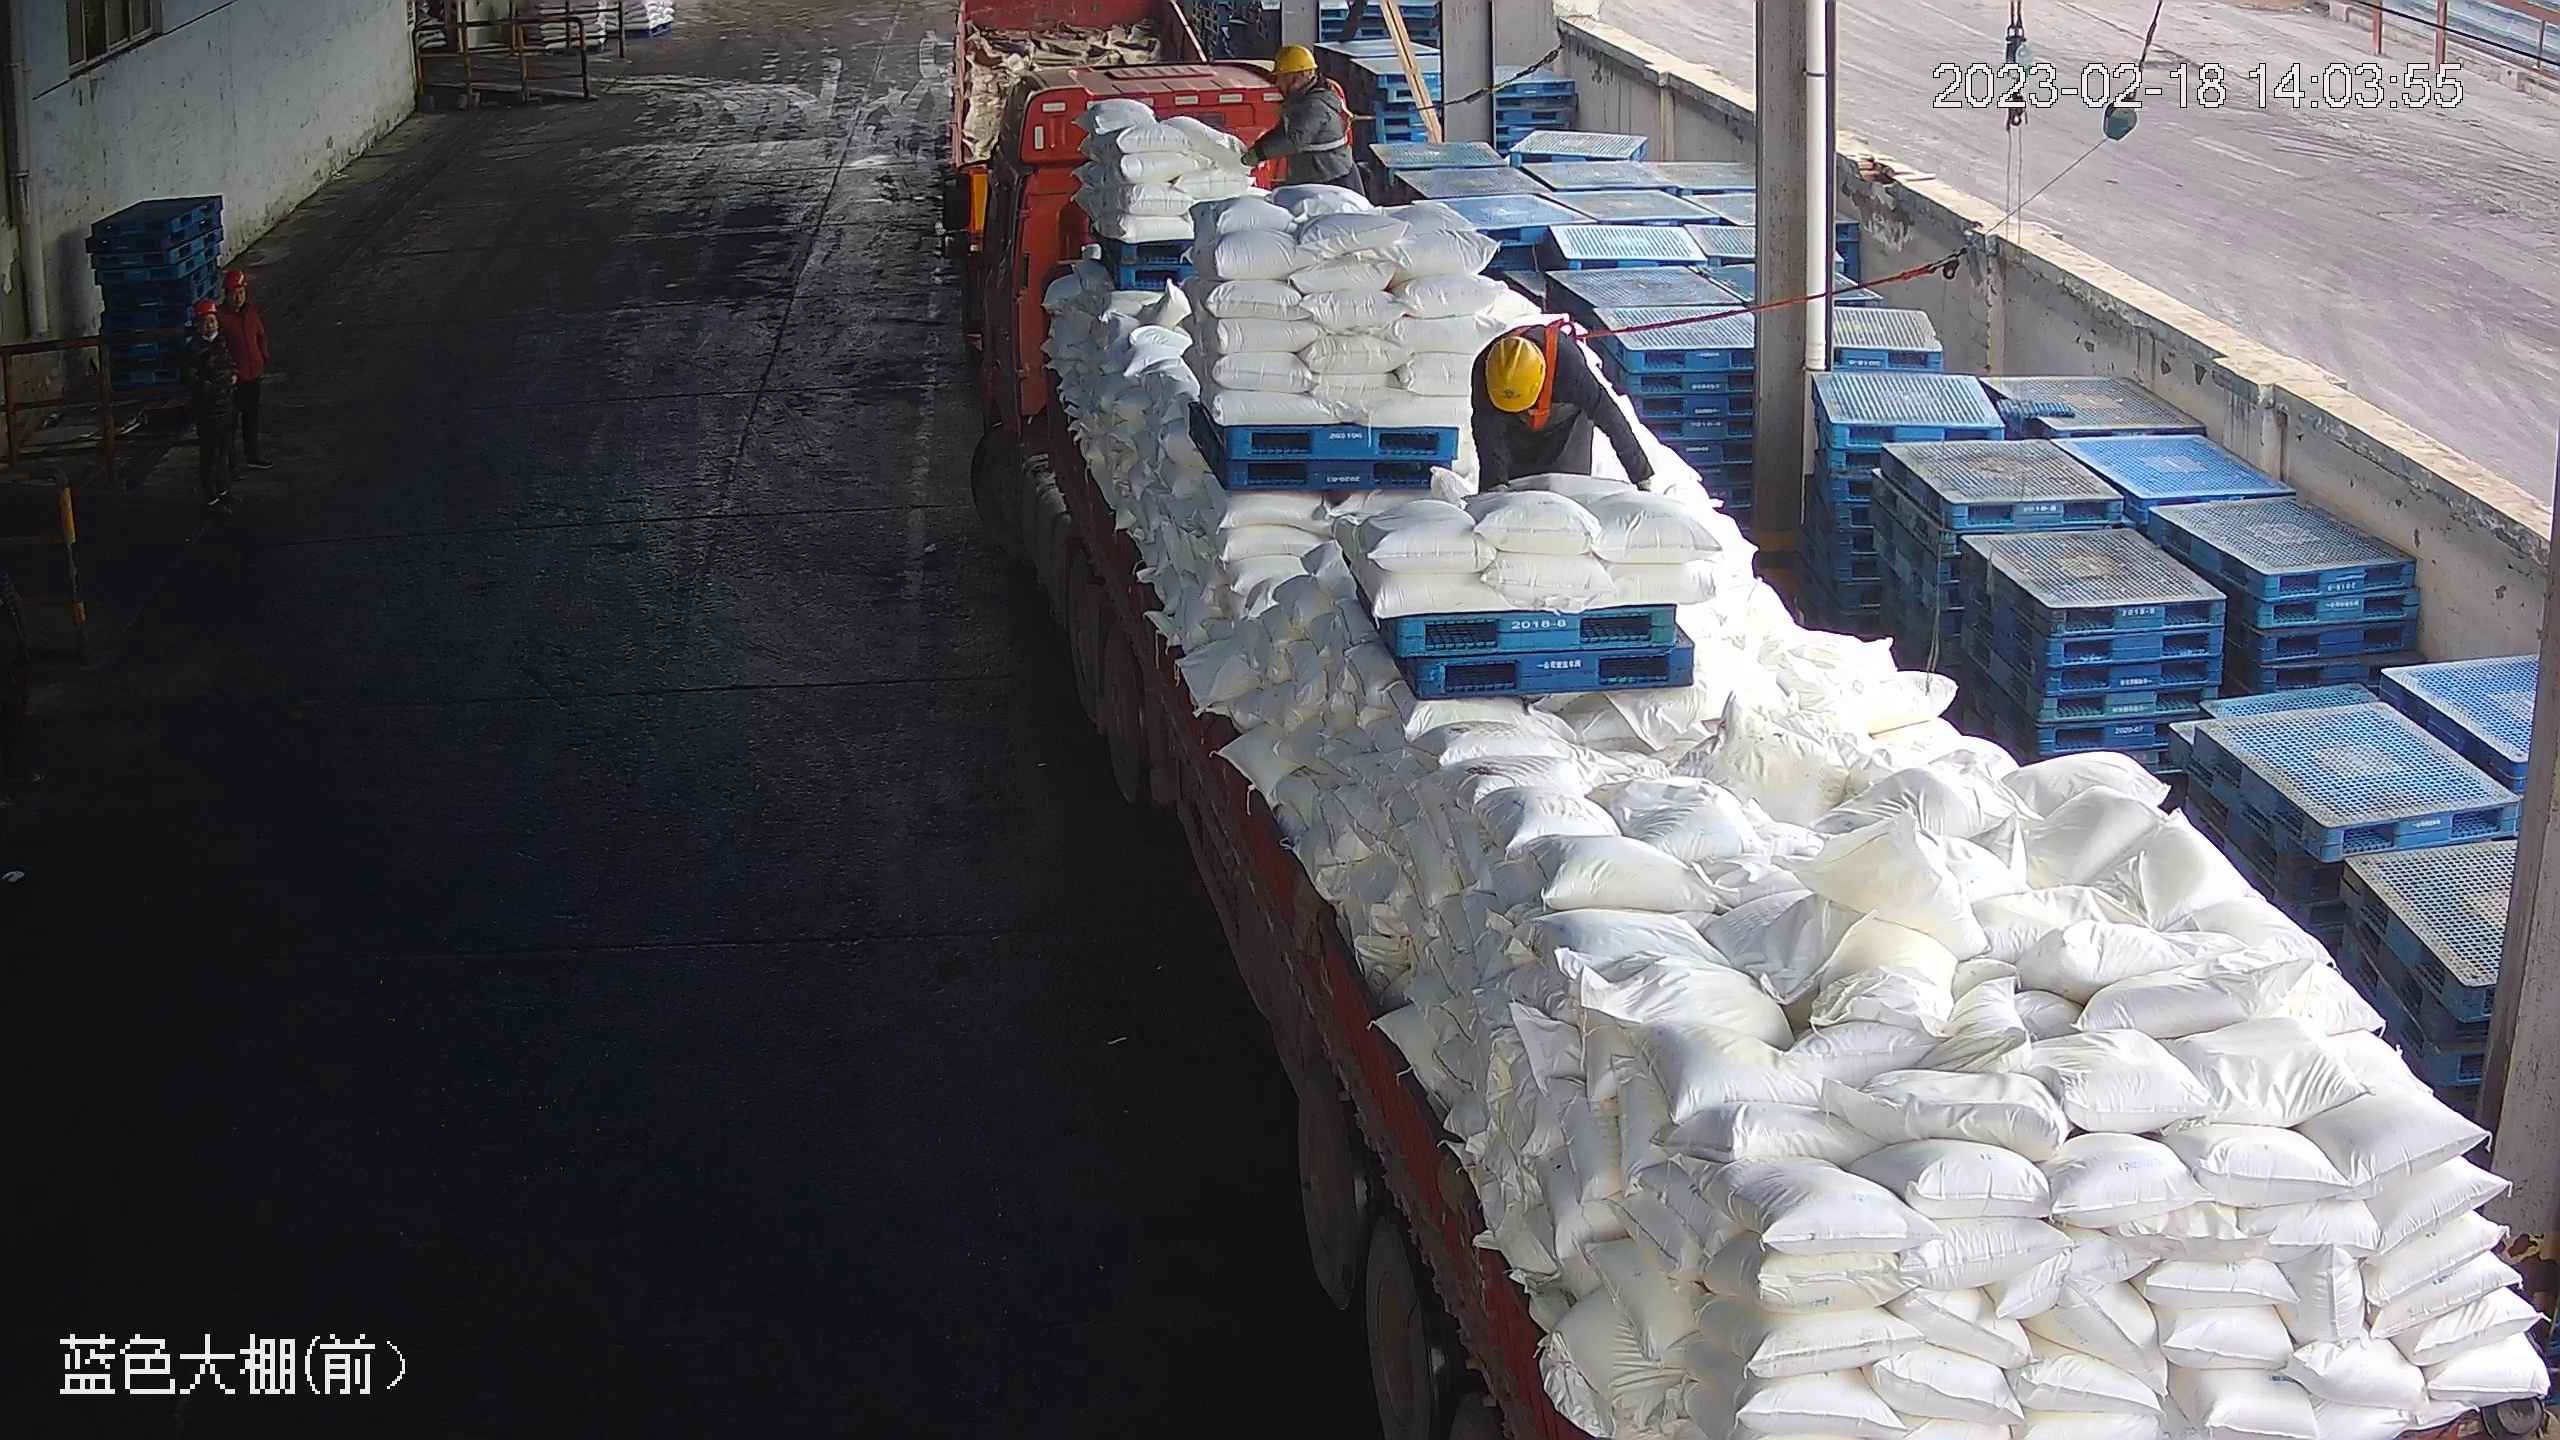belt: (1515, 312, 1590, 401), (1294, 83, 1360, 157)
head: (1265, 41, 1345, 123), (205, 261, 262, 334), (185, 292, 243, 353)
helmet: (1485, 336, 1544, 415), (1268, 41, 1314, 75), (190, 297, 220, 316), (222, 270, 247, 290)
people: (1468, 323, 1652, 503), (1240, 41, 1357, 196), (214, 261, 276, 470), (180, 296, 236, 507)
truck: (947, 33, 2557, 1437)
